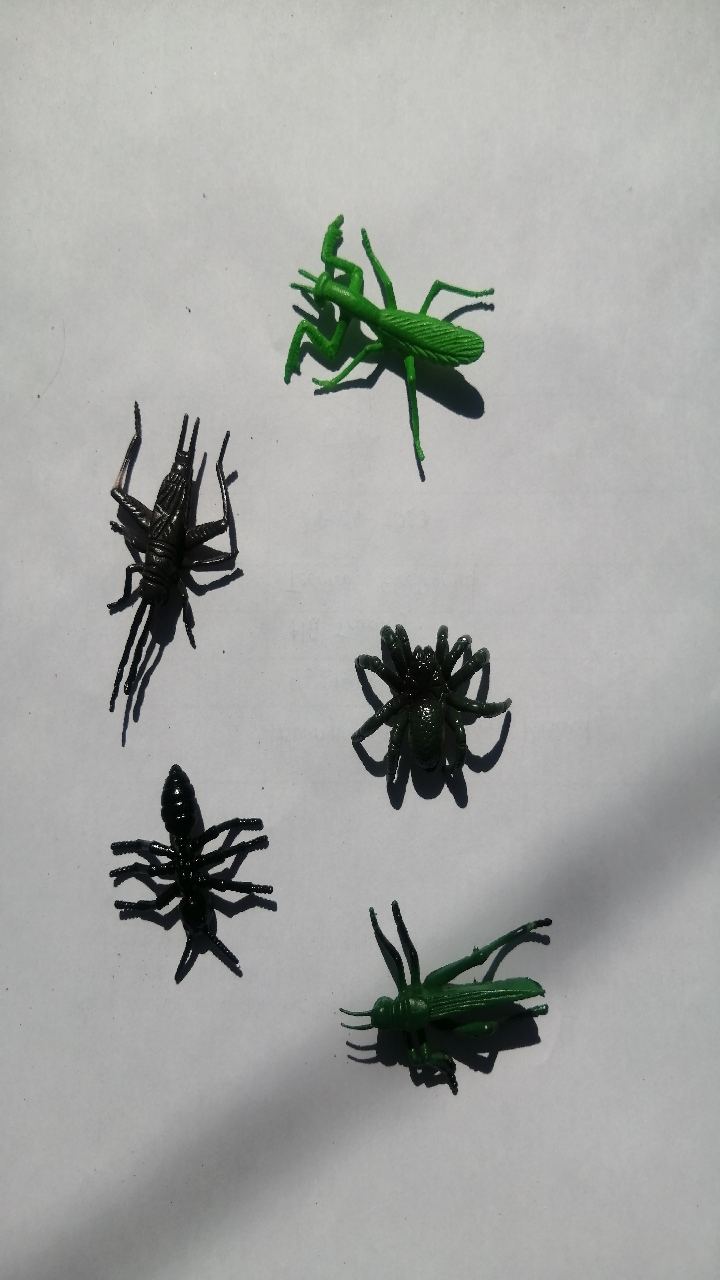intruso: (234, 175, 512, 463), (60, 380, 264, 745), (309, 557, 531, 855), (332, 859, 580, 1112), (86, 731, 284, 1011)
